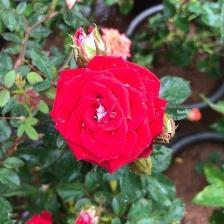rose: (53, 56, 170, 173)
